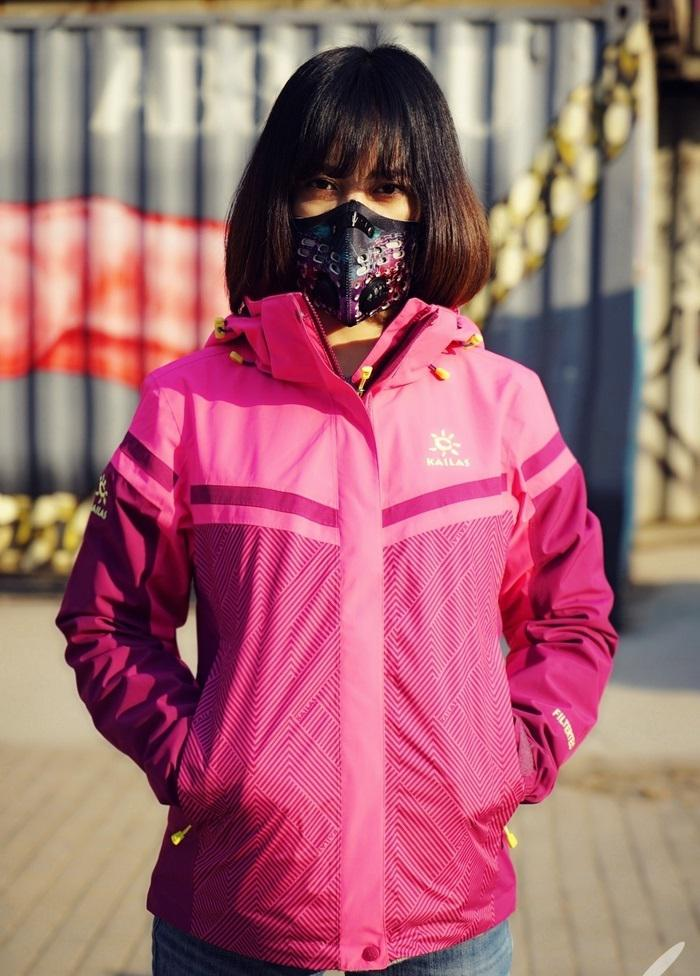OK: (279, 146, 436, 303)
